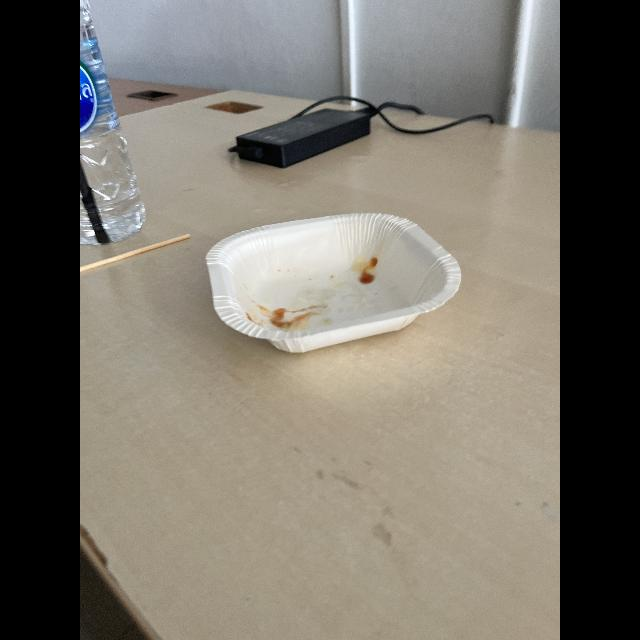stick: (80, 227, 196, 271)
